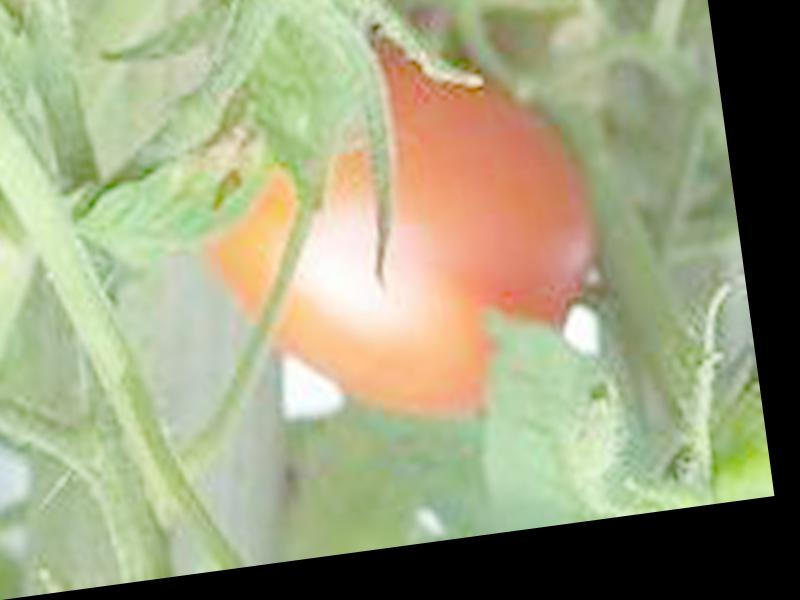Tomato: (188, 33, 614, 447)
